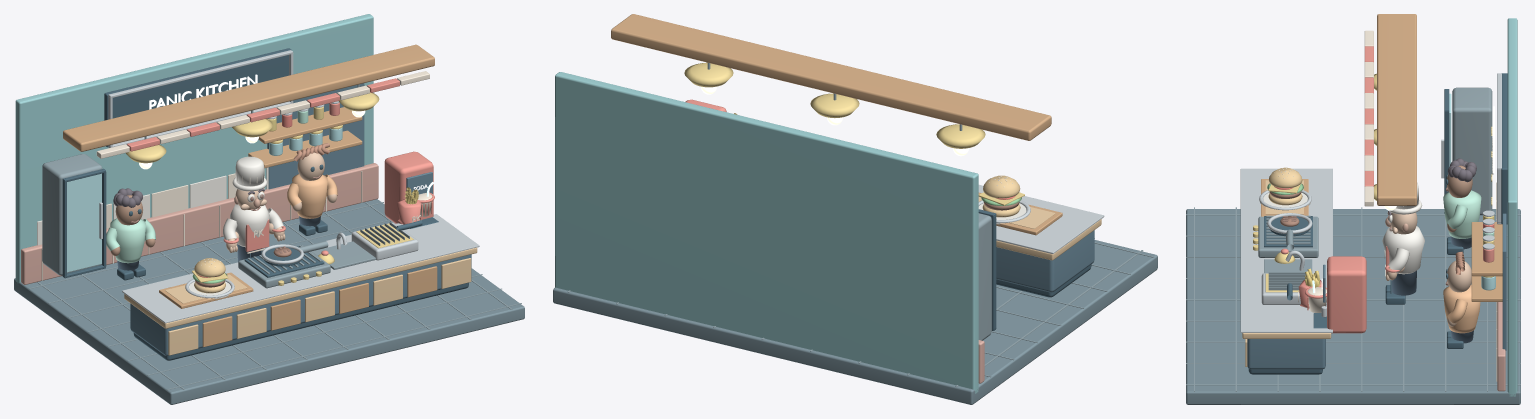
Rendered from panic_hero_food_truck.glb.
3 renders of one model, left to right at view 1: azimuth 30°, elevation 25°; view 2: azimuth 150°, elevation 25°; view 3: azimuth 270°, elevation 25°, orthographic. The views are drawn at different scales.
Parts seen in each view (by area): view 1: foundation charcoal plinth, food truck aluminum rear wall, STATIC_walnut, STATIC_steel, STATIC_steelDark, STATIC_dark, STATIC_oak, decorative counter backsplash lower, STATIC_navy, STATIC_glass, STATIC_red, STATIC_cream (+12 smaller); view 2: food truck aluminum rear wall, foundation charcoal plinth, STATIC_walnut, STATIC_navy, STATIC_steelDark, STATIC_steel, STATIC_yellow, STATIC_oak, STATIC_dark, brioche upper golden bun; view 3: foundation charcoal plinth, STATIC_steelDark, STATIC_walnut, STATIC_steel, food truck aluminum rear wall, STATIC_red, STATIC_navy, STATIC_dark, STATIC_cream, tailored white chef jacket, tailored customer body 0, tailored customer body 1 (+15 smaller).
Part boxes in pixels (x1,y1,x2,y2): foundation charcoal plinth: (14,199,524,404); food truck aluminum rear wall: (15,14,373,283); STATIC_walnut: (63,44,437,347); STATIC_steel: (99,50,479,323); STATIC_steelDark: (28,84,521,390); STATIC_dark: (62,48,468,360); STATIC_oak: (124,247,477,355); decorative counter backsplash lower: (21,163,378,284); STATIC_navy: (130,83,471,355); STATIC_glass: (67,127,342,272); STATIC_red: (127,78,433,224); STATIC_cream: (41,71,429,280); food truck aluminum rear wall: (555,72,978,393); foundation charcoal plinth: (553,240,1157,404); STATIC_walnut: (611,14,1062,235); STATIC_navy: (996,230,1094,292); STATIC_steelDark: (568,63,1154,386); STATIC_steel: (978,185,1104,254); STATIC_yellow: (684,62,985,148); STATIC_oak: (978,196,1101,260); STATIC_dark: (978,209,1091,330); brioche upper golden bun: (983,175,1020,198); foundation charcoal plinth: (1186,209,1520,404); STATIC_steelDark: (1186,87,1520,391); STATIC_walnut: (1261,14,1502,301); STATIC_steel: (1240,73,1501,332); food truck aluminum rear wall: (1507,18,1517,396); STATIC_red: (1327,46,1494,333); STATIC_navy: (1247,213,1506,369); STATIC_dark: (1248,73,1507,374); STATIC_cream: (1364,30,1497,381); tailored white chef jacket: (1382,226,1424,274); tailored customer body 0: (1443,190,1481,238); tailored customer body 1: (1443,284,1480,333).
Size of the model in its own units: 13 by 6.87 by 10.
